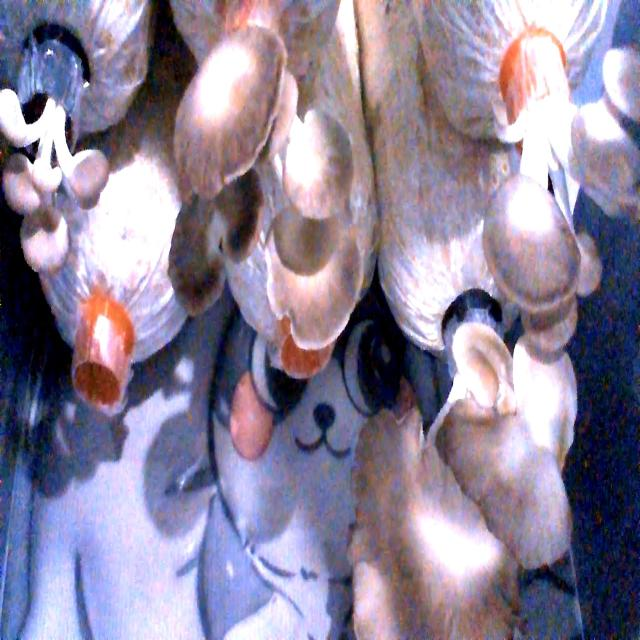big: (331, 319, 590, 640), (164, 42, 368, 352), (476, 63, 636, 332)
nfound: (64, 345, 143, 411)
small: (0, 87, 98, 296)
